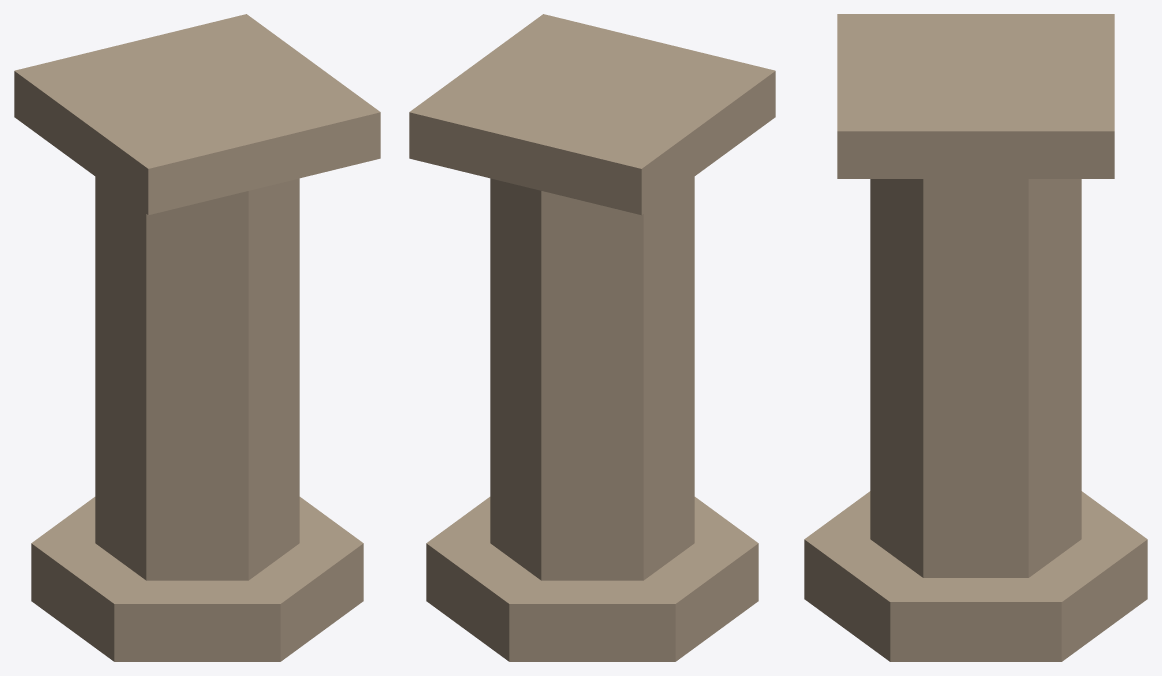
File: shared-pillar.glb
3 views of the same model, side by side, from view 1: azimuth 30°, elevation 25°; view 2: azimuth 150°, elevation 25°; view 3: azimuth 270°, elevation 25° (orthographic). The views are drawn at different scales.
Visible parts, largest first — view 1: shared-pillar; view 2: shared-pillar; view 3: shared-pillar.
Part boxes in pixels (bbox=[...]): shared-pillar: bbox=[14, 14, 380, 661]; shared-pillar: bbox=[409, 14, 775, 661]; shared-pillar: bbox=[804, 14, 1147, 661].
Size of the model in its own units: 0.4503 by 0.88 by 0.52.
